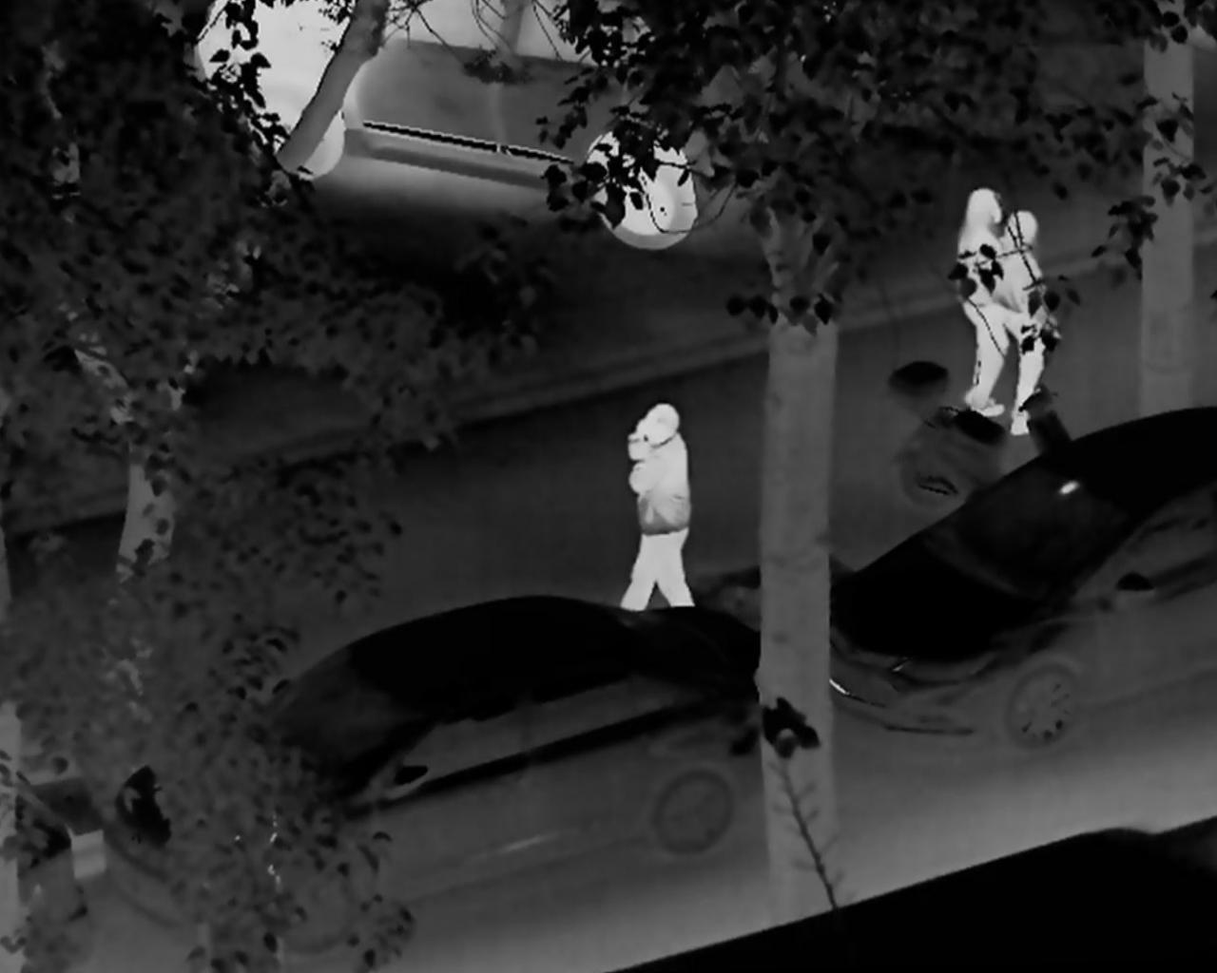person: (615, 406, 701, 620), (949, 180, 1024, 419), (989, 212, 1066, 439)
